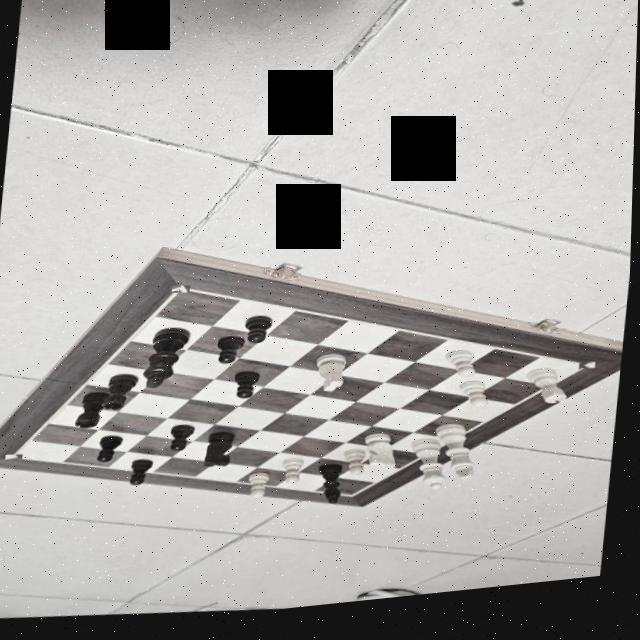chess-table-corners: (174, 288, 192, 298), (8, 454, 25, 462), (581, 374, 597, 382), (348, 500, 361, 508)
